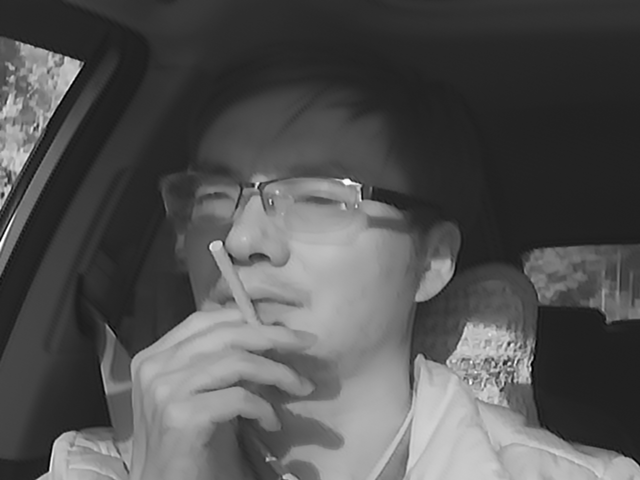hand: (124, 301, 318, 464)
